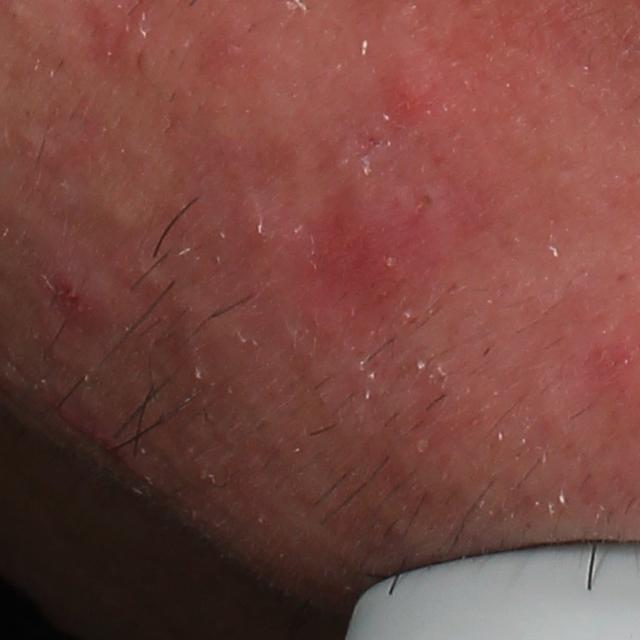papule: (320, 195, 441, 298), (382, 60, 447, 131), (37, 274, 112, 333)
